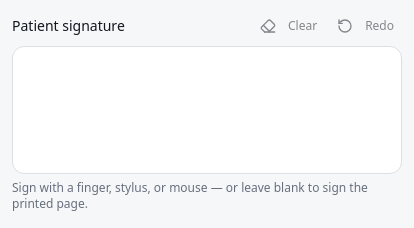
SignatureCapture › Clear reports null; Redo restores the cleared signature
Expected: the button "Clear" is disabled, [252,12,325,40]
Expected: the button "Redo" is disabled, [329,12,402,40]
Press the mouse on the picture named "Patient signature pad" at (207, 110), box [12,46,402,174]
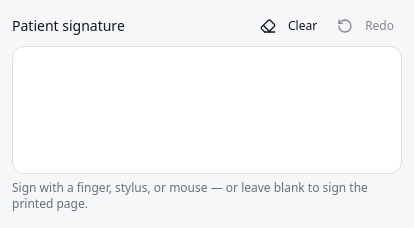
Expected: the button "Redo" is disabled, [329,12,402,40]
Expected: the button "Clear" is enabled
Click the button "Clear" at (289, 26), box [252,12,325,40]
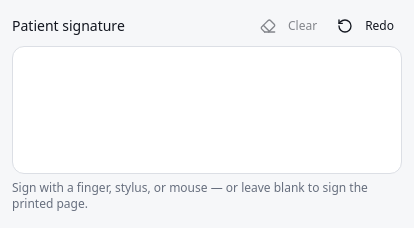
Expected: the button "Clear" is disabled, [252,12,325,40]
Expected: the button "Redo" is enabled
Click the button "Redo" at (366, 26), box [329,12,402,40]
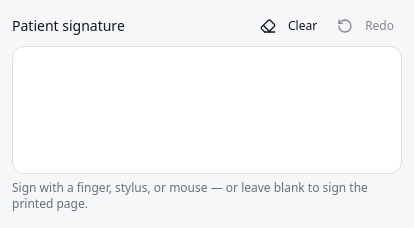
Expected: the button "Redo" is disabled, [329,12,402,40]
Expected: the button "Clear" is enabled, [252,12,325,40]
